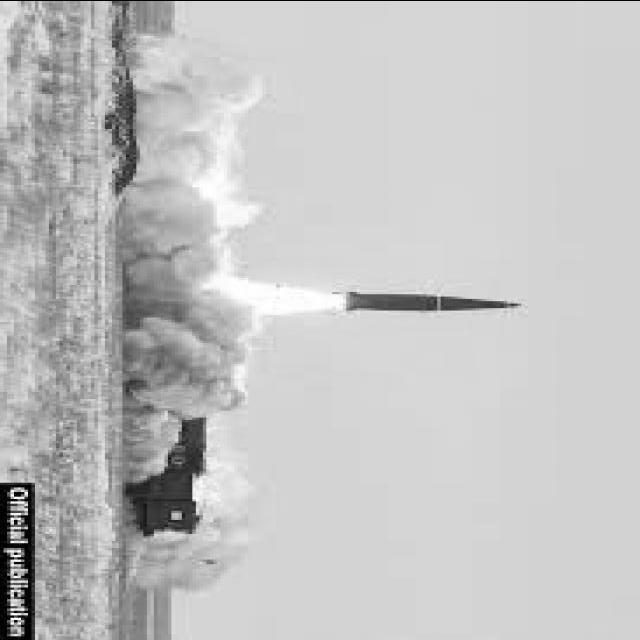missile: (336, 279, 528, 319)
